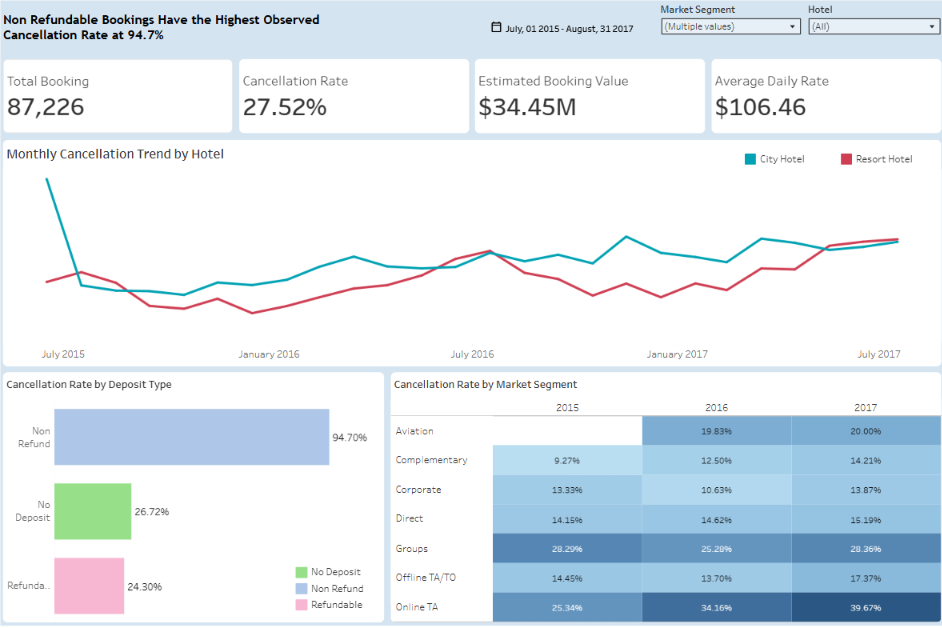

The page's visual inventory and layout, read from the dashboard file:
{"tool":"tableau","page":{"name":"Dashboard 1","canvas":[1200,800],"ordinal":0},"visuals":[{"type":"text","box":[8,8,604,70]},{"type":"text","box":[612,8,220,70]},{"type":"filter","title":"KPI Total Booking","param":"[federated.0nb48ol0jwthlw18zqahk1kv7cuu].[none:market_segment:nk]","box":[832,8,185,70]},{"type":"filter","title":"KPI Total Booking","param":"[federated.0nb48ol0jwthlw18zqahk1kv7cuu].[none:hotel:nk]","box":[1017,8,175,70]},{"type":"image","param":"Image/calendar_today_24dp_000000_FILL0_wght400_GRAD0_opsz24.png","box":[622,29,16,26]},{"type":"worksheet","title":"KPI Total Booking","mark":"Automatic","box":[8,78,295.9,101]},{"type":"worksheet","title":"KPI Cancellation Rate","mark":"Automatic","box":[303.9,78,296.1,101]},{"type":"worksheet","title":"KPI Total Revenue","mark":"Automatic","box":[600,78,295.9,101]},{"type":"worksheet","title":"KPI Avg ADR","mark":"Automatic","box":[895.9,78,296.1,101]},{"type":"worksheet","title":"Monthly Cancellation Trend by Hotel","mark":"Automatic","rows":["Calculation_1513791233146880"],"cols":["arrival_date"],"box":[8,179,1184,292]},{"type":"worksheet","title":"Cancellation Rate by Deposit Type","mark":"Automatic","rows":["deposit_type"],"cols":["Calculation_1513791233146880"],"box":[8,471,486,321]},{"type":"worksheet","title":"Cancellation Rate by Market Segment","mark":"Square","rows":["market_segment"],"cols":["arrival_date"],"box":[494,471,698,321]},{"type":"legend","title":"Cancellation Rate by Deposit Type","param":"[federated.0nb48ol0jwthlw18zqahk1kv7cuu].[none:deposit_type:nk]","box":[376,716,121,68]}]}

Visuals, with their boxes in screenshot pixels (x1, y1, x2, y2), scaled from the page's 1200x800 canvas onto the 942x628 screenshot:
text: bbox=(6, 6, 480, 61)
text: bbox=(480, 6, 653, 61)
"KPI Total Booking" filter: bbox=(653, 6, 798, 61)
"KPI Total Booking" filter: bbox=(798, 6, 936, 61)
image: bbox=(488, 23, 501, 43)
"KPI Total Booking" worksheet: bbox=(6, 61, 239, 141)
"KPI Cancellation Rate" worksheet: bbox=(239, 61, 471, 141)
"KPI Total Revenue" worksheet: bbox=(471, 61, 703, 141)
"KPI Avg ADR" worksheet: bbox=(703, 61, 936, 141)
"Monthly Cancellation Trend by Hotel" worksheet: bbox=(6, 141, 936, 370)
"Cancellation Rate by Deposit Type" worksheet: bbox=(6, 370, 388, 622)
"Cancellation Rate by Market Segment" worksheet (Square marks): bbox=(388, 370, 936, 622)
"Cancellation Rate by Deposit Type" legend: bbox=(295, 562, 390, 615)
